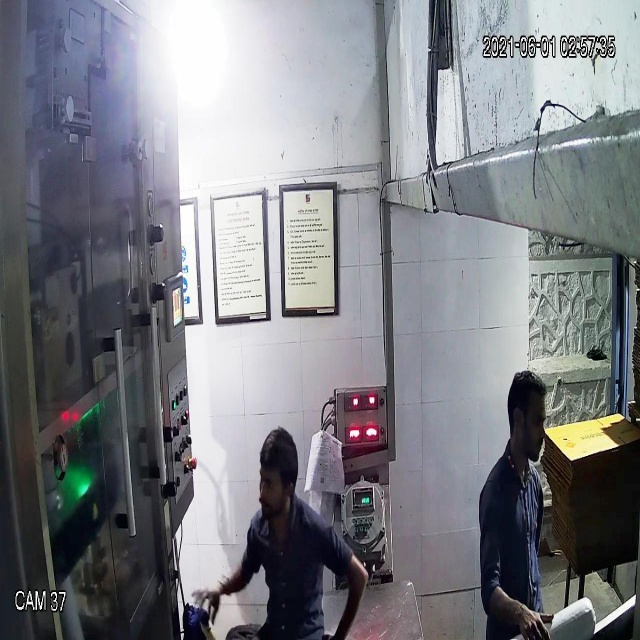Sin_gafas: (250, 465, 299, 497)
